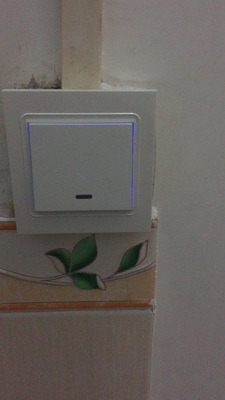switch: (40, 123, 117, 203)
